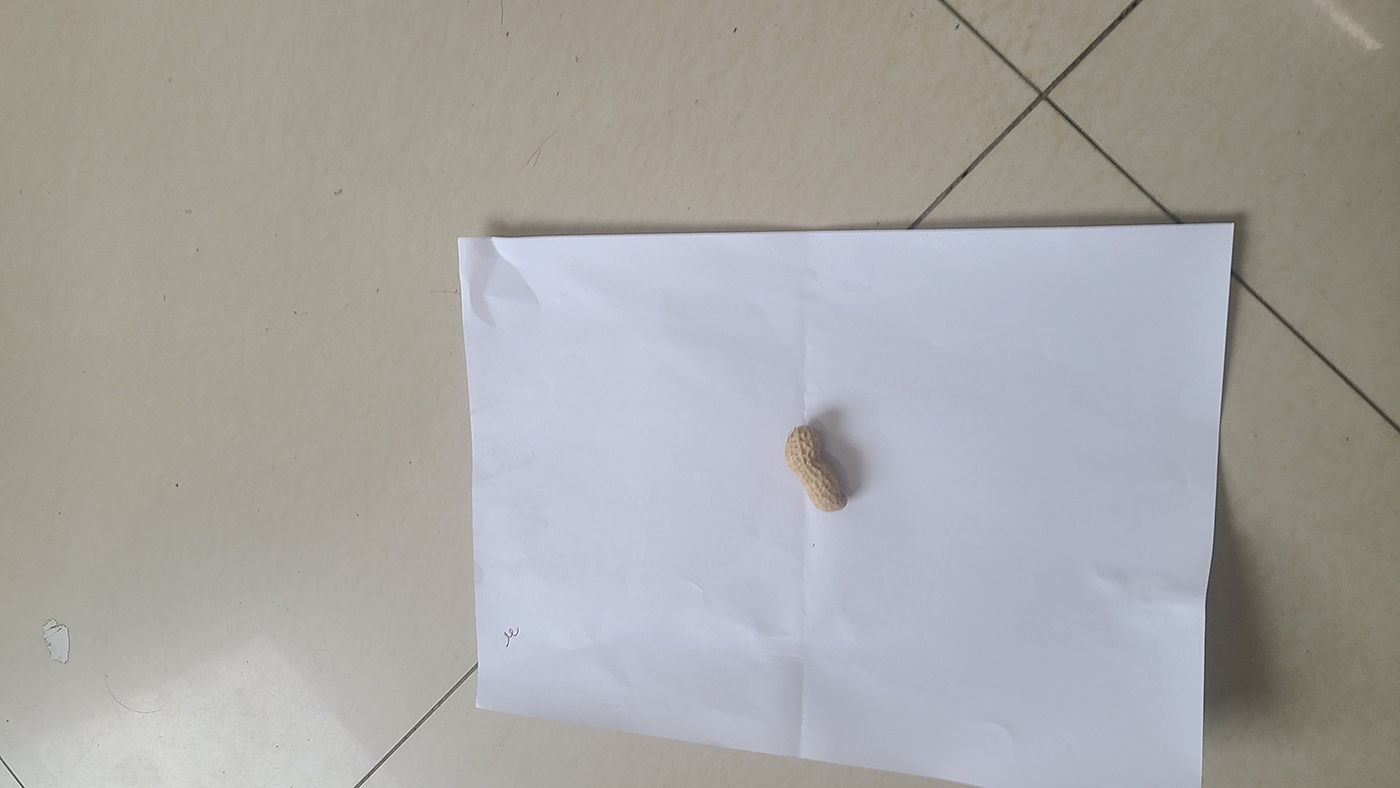h: (785, 423, 851, 514)
